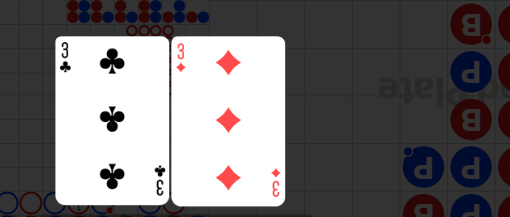3C: (58, 41, 73, 75)
3D: (176, 43, 187, 75)
